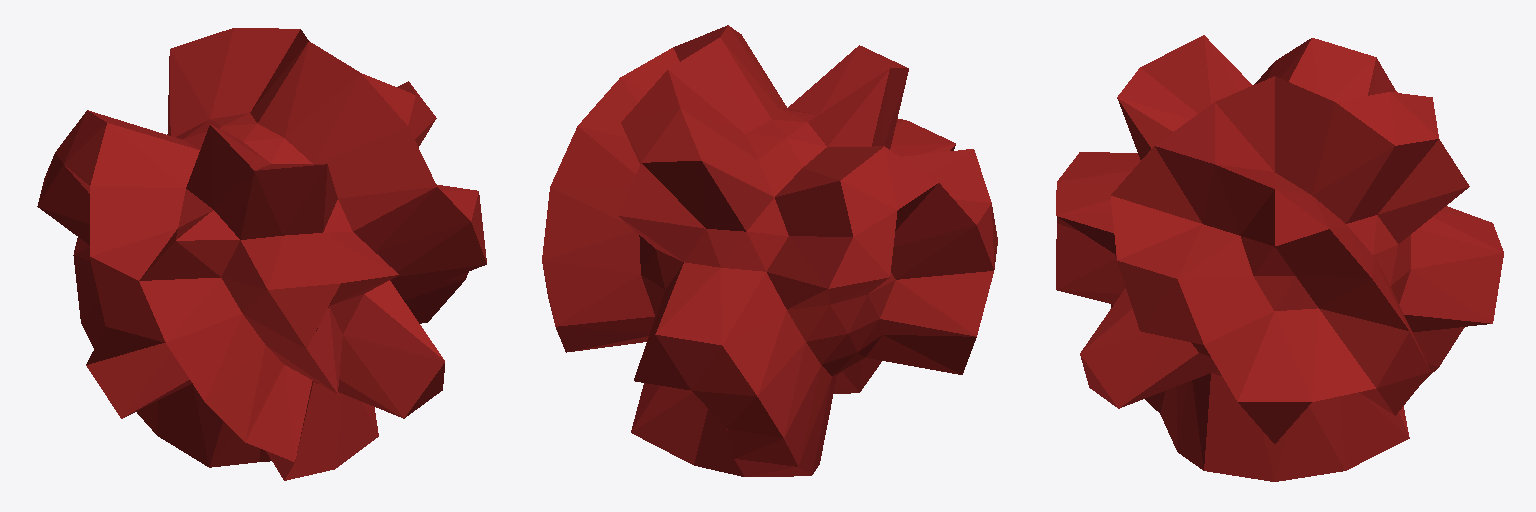
Rendered from GrainFB.obj.
3 renders of one model, left to right at view 1: azimuth 30°, elevation 25°; view 2: azimuth 150°, elevation 25°; view 3: azimuth 270°, elevation 25°, orthographic.
Parts seen in each view (by area): view 1: ICO; view 2: ICO; view 3: ICO.
Boxes of the visible parts, x1=… form: ICO: x1=37, y1=28, x2=486, y2=480; ICO: x1=542, y1=25, x2=997, y2=476; ICO: x1=1056, y1=35, x2=1503, y2=481.
Size of the model in its own units: 1.91 by 1.97 by 1.96.